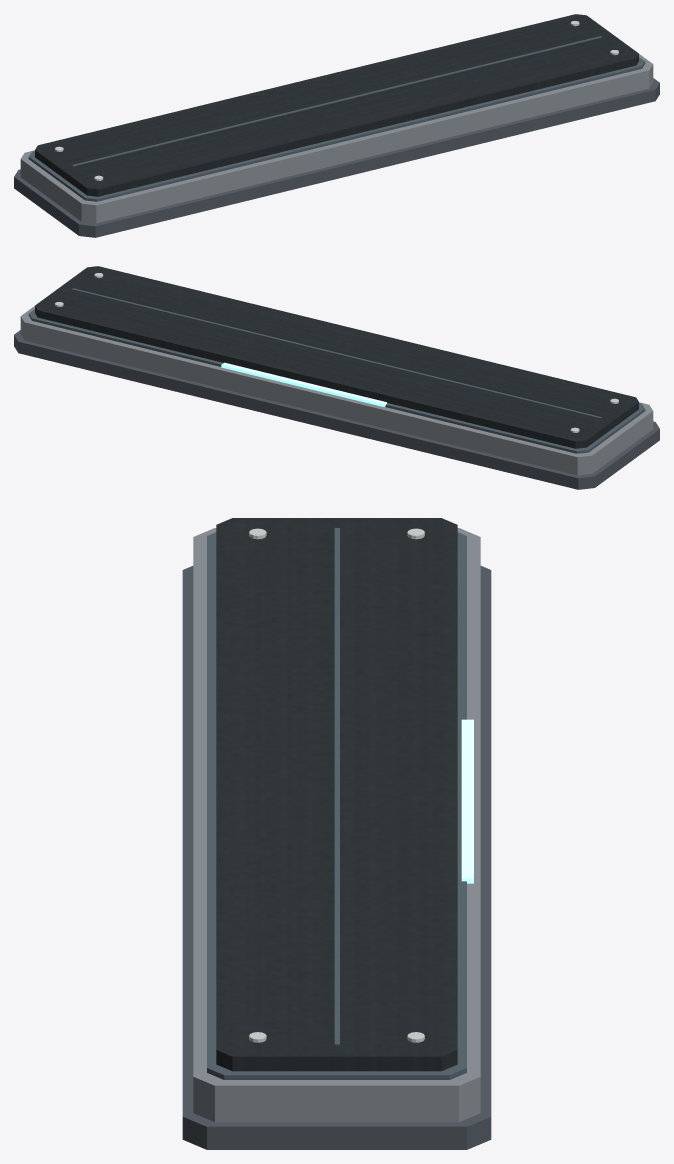
File: m03-metal-edge-north.glb
3 renders of one model, top to bottom at view 1: azimuth 30°, elevation 25°; view 2: azimuth 150°, elevation 25°; view 3: azimuth 270°, elevation 25°, orthographic. The views are drawn at different scales.
Parts seen in each view (by area): view 1: edge-north/003, edge-north/001, edge-north/000, edge-north/002, edge-north/004; view 2: edge-north/003, edge-north/001, edge-north/000, edge-north/002, edge-north/004, edge-north/009; view 3: edge-north/003, edge-north/001, edge-north/000, edge-north/002, edge-north/004, edge-north/009.
Boxes of the visible parts, x1,y1,x2,y2 form: edge-north/003: (35, 14, 638, 196); edge-north/001: (20, 54, 653, 223); edge-north/000: (14, 78, 659, 237); edge-north/002: (28, 57, 645, 201); edge-north/004: (72, 36, 601, 166); edge-north/003: (35, 266, 638, 448); edge-north/001: (20, 306, 653, 475); edge-north/000: (14, 330, 659, 489); edge-north/002: (28, 309, 645, 453); edge-north/004: (72, 288, 601, 418); edge-north/009: (221, 362, 386, 406); edge-north/003: (216, 518, 457, 1071); edge-north/001: (193, 528, 480, 1122); edge-north/000: (182, 566, 491, 1149); edge-north/002: (207, 532, 466, 1079); edge-north/004: (334, 528, 339, 1045); edge-north/009: (461, 719, 473, 883).
Size of the model in its own units: 1 by 0.0678 by 0.23.
6 materials, 1 textured.
